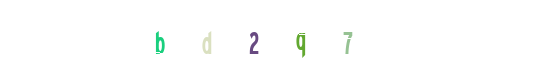2: (225, 0, 305, 80)
7: (261, 0, 341, 80)
B: (119, 0, 199, 80)
D: (214, 0, 294, 80)
Q: (232, 0, 312, 80)
